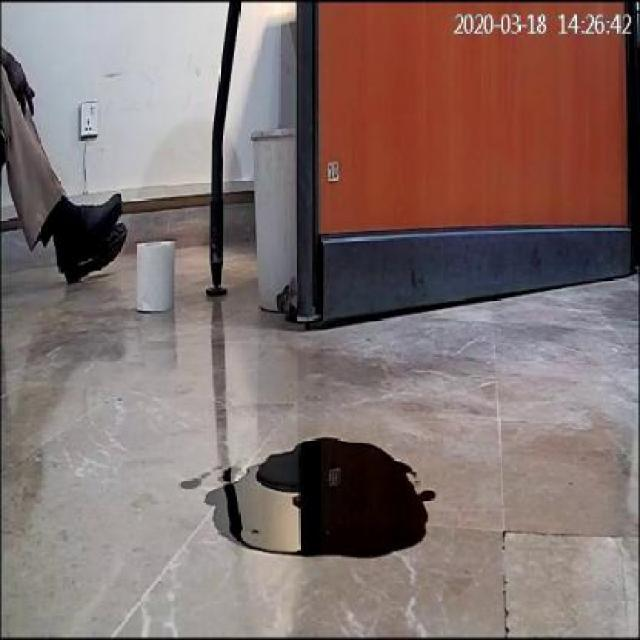spill: (202, 438, 430, 566)
